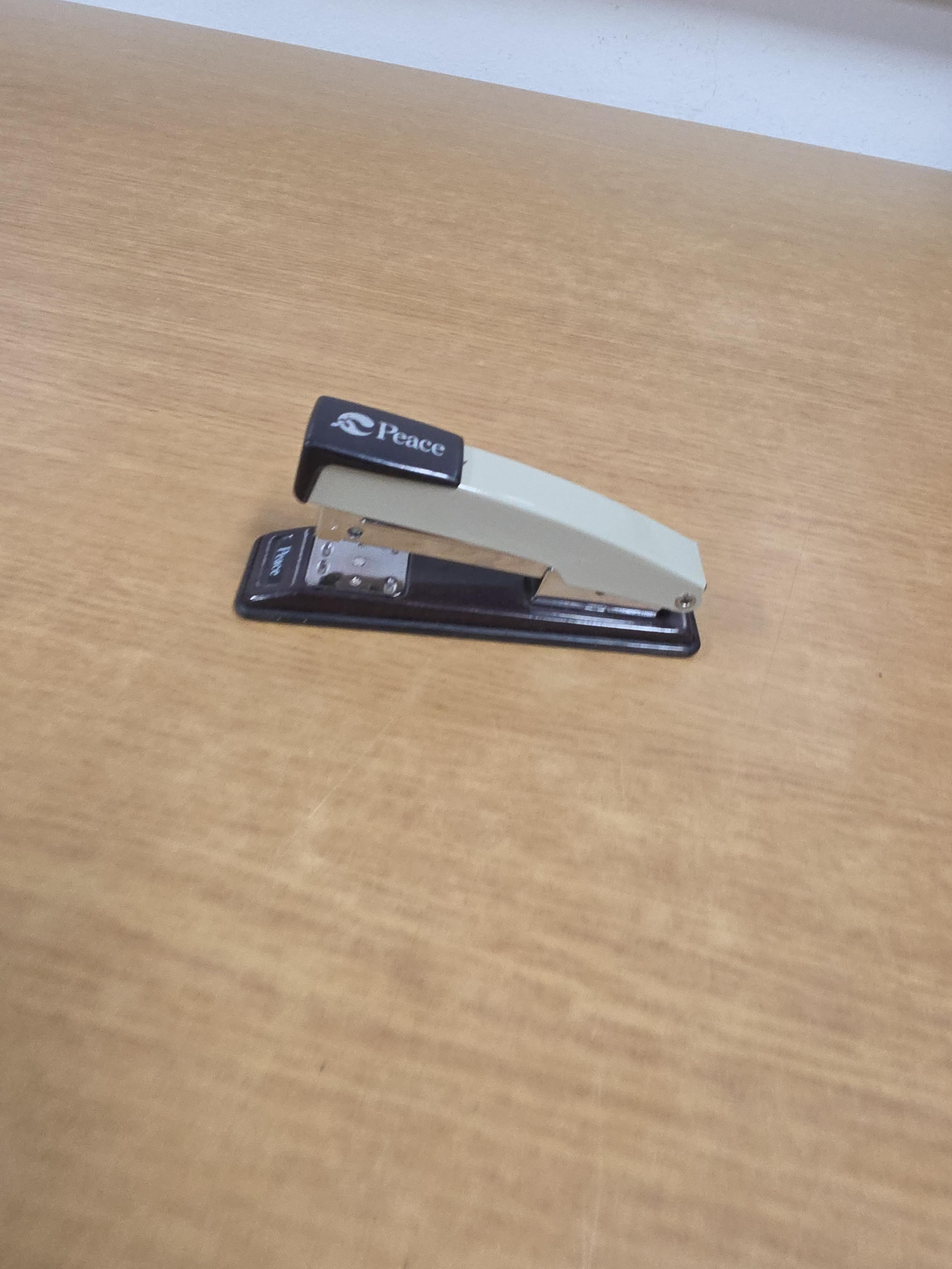stapler: (233, 393, 707, 657)
